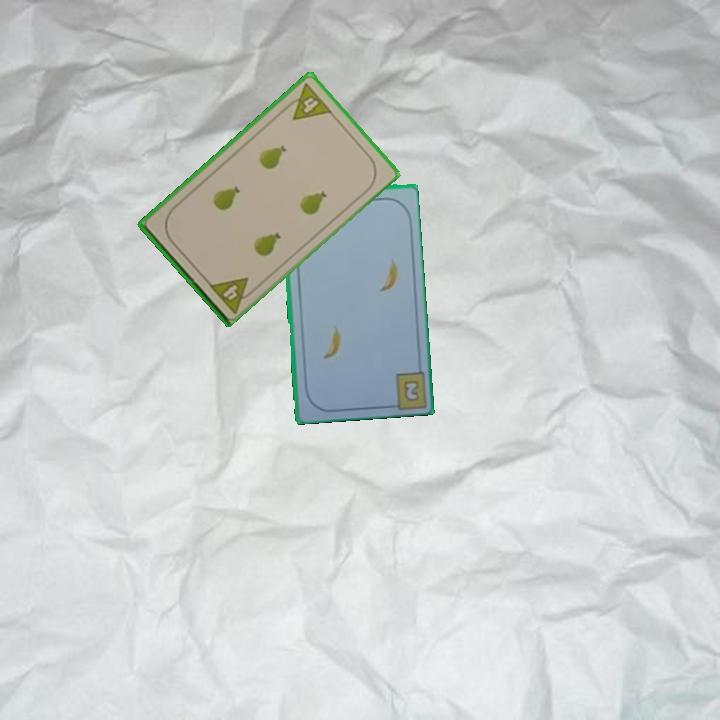2b: (400, 376, 422, 405)
4p: (280, 79, 335, 123), (205, 274, 259, 316)
